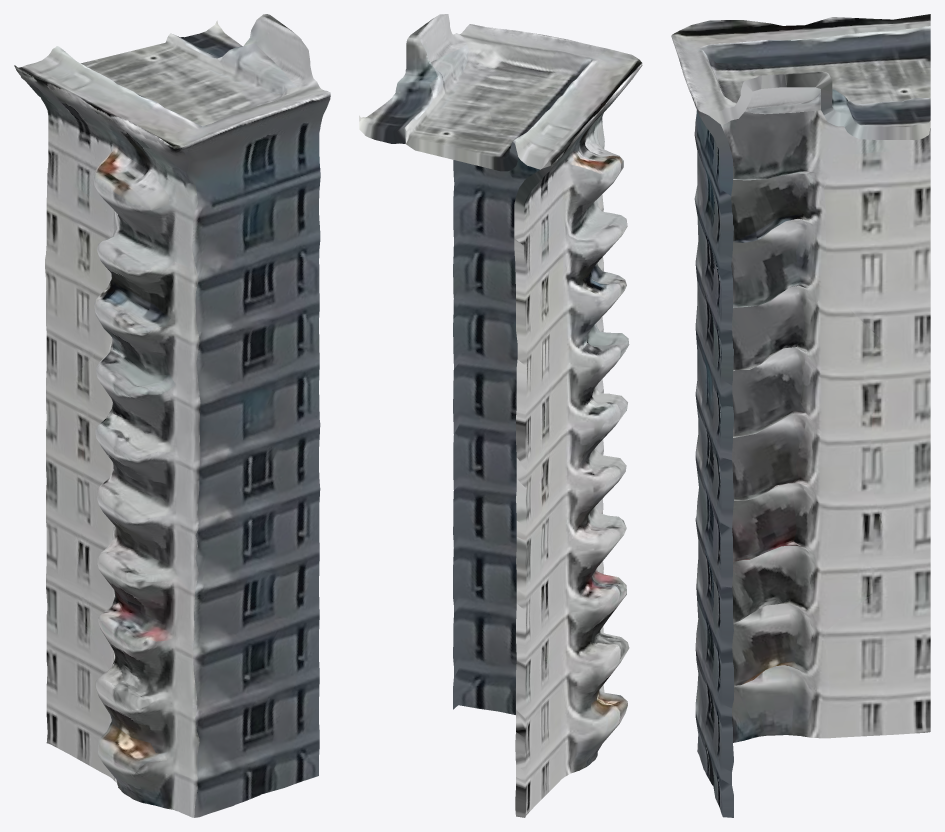
File: z20-167780-405216-h1-yup-uvflip-v3-world.glb
3 views of the same model, side by side, from view 1: azimuth 30°, elevation 25°; view 2: azimuth 150°, elevation 25°; view 3: azimuth 270°, elevation 25° (orthographic). The views are drawn at different scales.
Bounding box in the file's own units: 10.24 × 35 × 11.08.
Materials: 1 (1 with a texture image).
